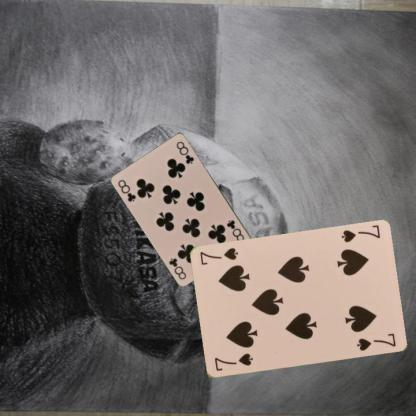7s: (338, 222, 382, 244), (212, 350, 254, 372)
8c: (115, 177, 138, 203), (224, 217, 246, 243)
